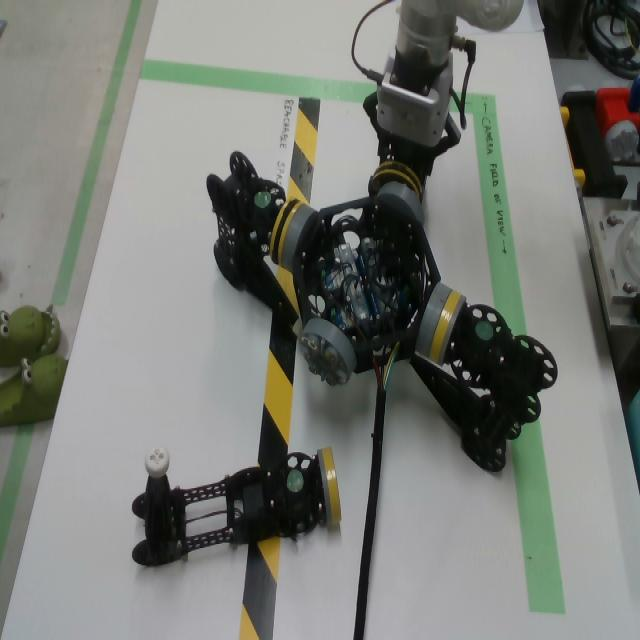body: (293, 197, 441, 375)
body_connector: (298, 317, 357, 387), (416, 283, 451, 356), (281, 205, 319, 272), (374, 181, 425, 225)
gripper: (363, 92, 461, 177)
leg: (407, 291, 557, 473), (131, 447, 342, 567), (206, 151, 304, 335), (368, 135, 427, 204)
leg_connector: (429, 291, 467, 367), (368, 161, 423, 203), (317, 447, 342, 532), (270, 199, 300, 267)
leg_marker: (287, 469, 304, 492), (475, 320, 493, 340), (254, 192, 271, 207)
